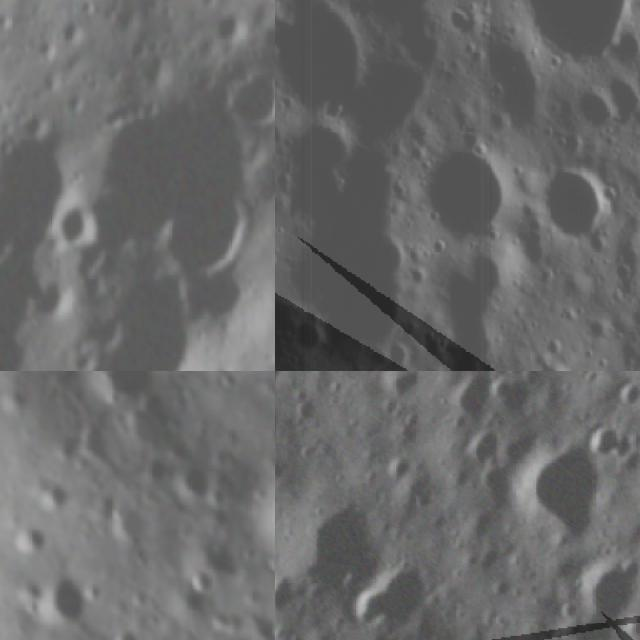crater: (79, 108, 254, 276), (275, 475, 406, 610), (508, 425, 631, 548), (275, 0, 379, 129), (73, 264, 194, 371), (338, 537, 454, 640), (429, 245, 509, 371), (466, 17, 546, 142), (419, 138, 516, 241), (504, 0, 640, 66), (0, 128, 64, 265), (538, 160, 625, 245), (172, 192, 252, 282), (31, 570, 105, 637), (578, 550, 640, 628), (117, 396, 188, 460), (437, 371, 506, 428), (225, 65, 275, 131), (566, 79, 618, 135), (275, 388, 304, 488), (595, 65, 640, 128), (2, 510, 58, 560), (86, 371, 167, 405), (275, 555, 312, 622), (464, 422, 512, 473), (288, 315, 334, 367), (30, 469, 80, 512), (59, 196, 96, 242), (377, 371, 429, 403), (178, 565, 222, 600), (380, 447, 418, 485), (550, 586, 588, 624), (613, 374, 640, 414), (214, 13, 251, 42), (529, 349, 575, 371), (106, 618, 149, 640), (622, 606, 640, 640), (261, 19, 275, 48), (503, 633, 534, 640)
